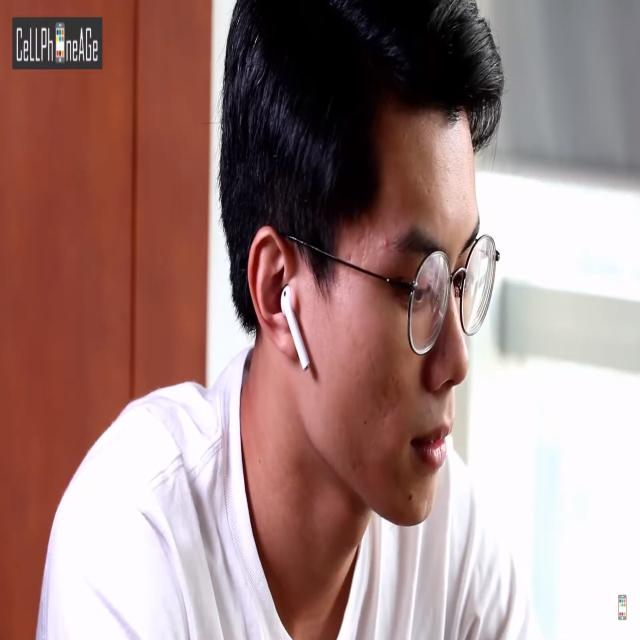airpods: (280, 285, 312, 374)
